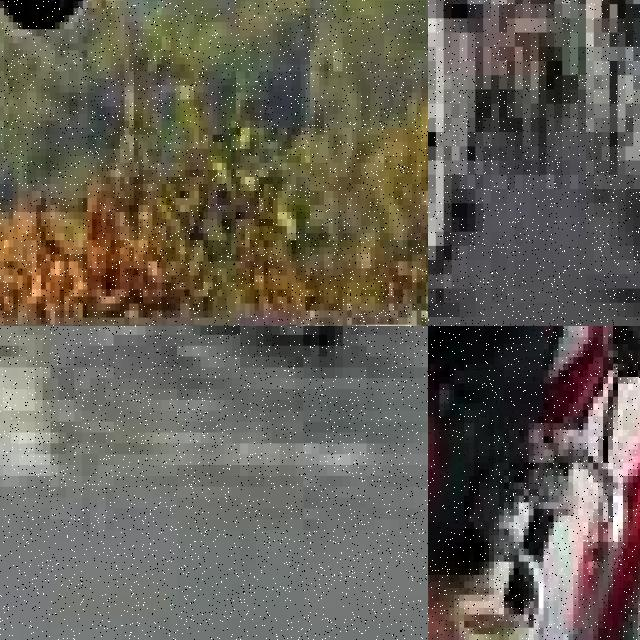bike: (428, 326, 640, 640), (0, 0, 92, 326), (428, 0, 467, 317), (491, 0, 570, 132)
